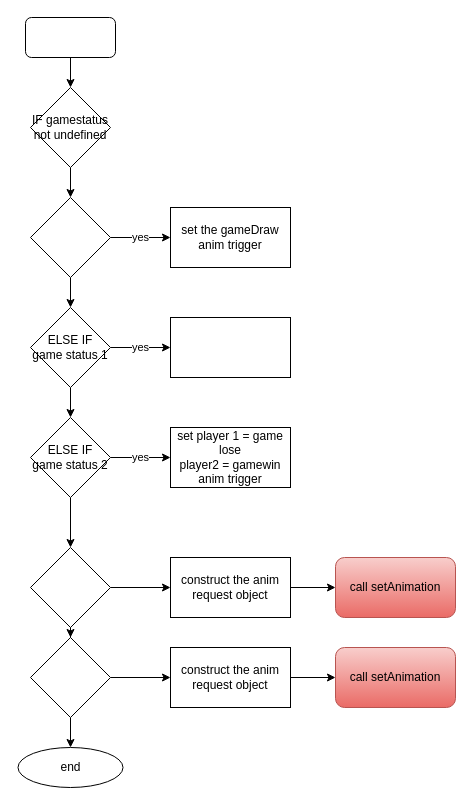
Some shapes in this 473 by 805 pixel diagram are drawn without their labels. The centre of each missing label's shape, as x and y in pixels:
"IF game status 0" belongs at point 70,237.
"IF player 1 truck anim trigger" belongs at point 70,587.
"IF player 2 truck anim trigger" belongs at point 70,677.
"set player 1 = game win player2 = gamelose anim trigger" belongs at point 230,347.
"start" belongs at point 70,37.
